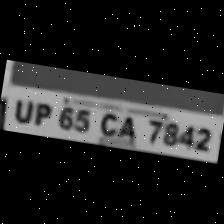2: (188, 122, 214, 152)
4: (174, 120, 196, 150)
5: (71, 105, 94, 134)
6: (54, 100, 78, 132)
7: (138, 113, 164, 146)
8: (160, 117, 184, 148)
A: (114, 109, 141, 142)
C: (94, 106, 121, 138)
P: (29, 97, 55, 128)
U: (7, 93, 36, 126)
